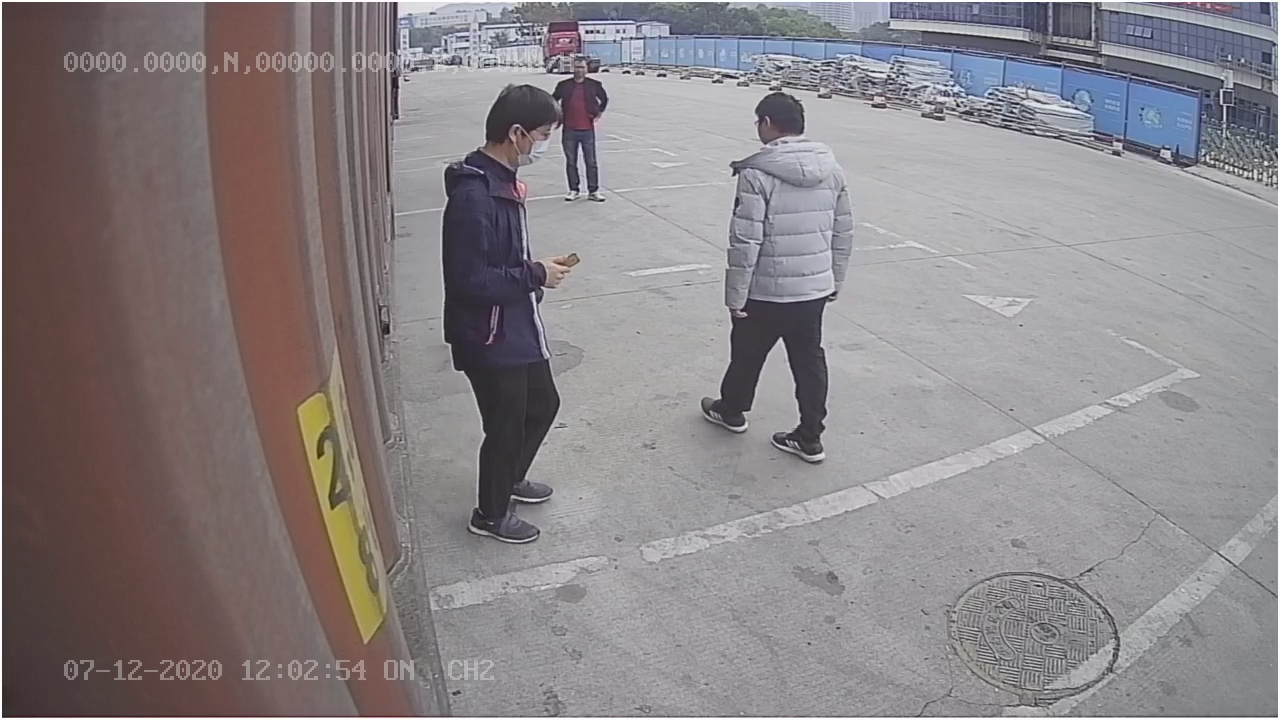person: (695, 87, 859, 462)
